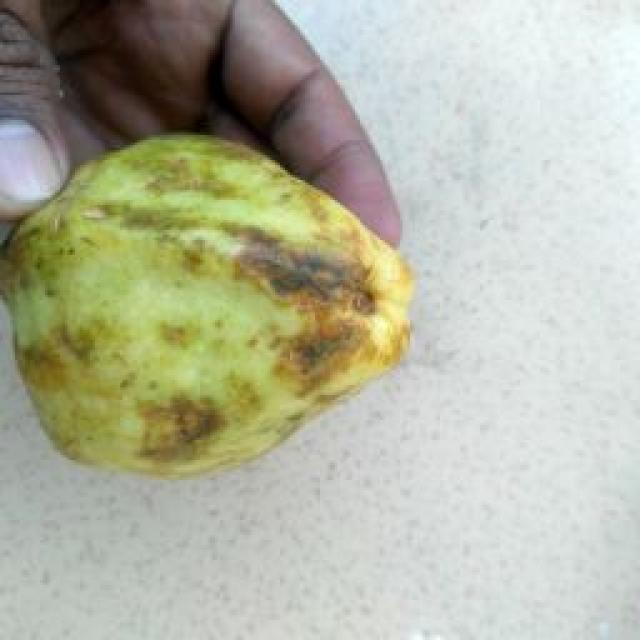Bad_Guava: (8, 134, 414, 477)
